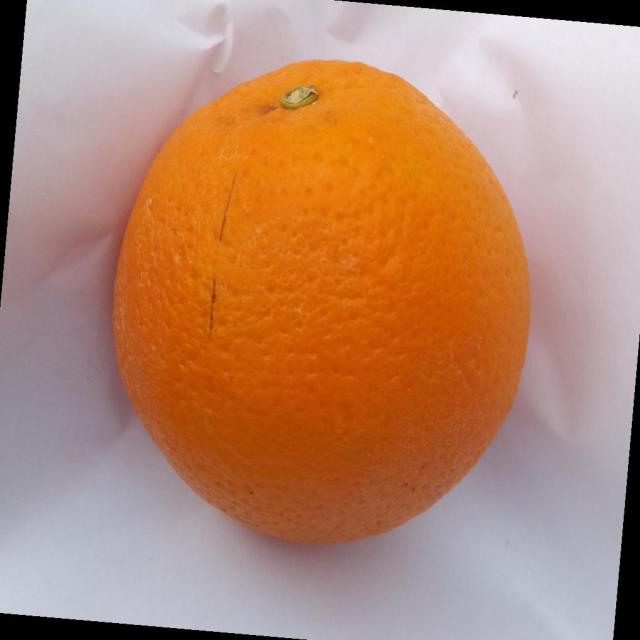fresh orange: (111, 58, 532, 544)
